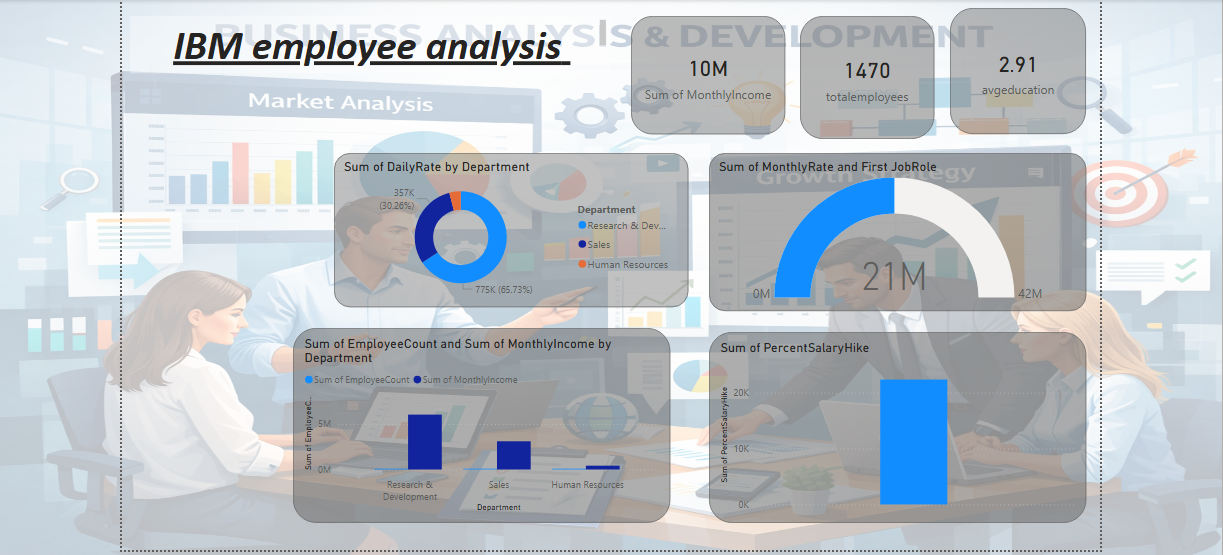

What the dashboard file says about the page in this screenshot:
{"tool":"powerbi","page":{"name":"Page 1","canvas":[1280,720],"ordinal":0},"visuals":[{"type":"card","fields":{"Values":["IBM_DataSet.totalemployees"]},"box":[887.8,20.6,175.6,160.5],"z":0},{"type":"card","fields":{"Values":["IBM_DataSet.avgeducation"]},"box":[1084.1,11,178.4,164.7],"z":1000},{"type":"card","fields":{"Values":["Sum(IBM_DataSet.MonthlyIncome)"]},"box":[666.9,20.6,201.7,155.1],"z":2000},{"type":"gauge","fields":{"Y":["Sum(IBM_DataSet.MonthlyRate)"]},"box":[768.4,200.3,494,207.2],"z":3000},{"type":"lineStackedColumnComboChart","fields":{"Y":["Sum(IBM_DataSet.PercentSalaryHike)"]},"box":[768.4,435,494,249.7],"z":4000},{"type":"clusteredColumnChart","fields":{"Y":["Sum(IBM_DataSet.EmployeeCount)","Sum(IBM_DataSet.MonthlyIncome)"],"Category":["IBM_DataSet.Department"]},"box":[223.7,429.5,494,255.2],"z":5000},{"type":"donutChart","fields":{"Y":["Sum(IBM_DataSet.DailyRate)"],"Category":["IBM_DataSet.Department"]},"box":[277.2,200.3,463.8,201.7],"z":6000},{"type":"textbox","box":[11,20.6,628.5,75.5],"z":7000}]}

Visuals, with their boxes in screenshot pixels (x1, y1, x2, y2):
card - IBM_DataSet.totalemployees: bbox=[801, 0, 939, 127]
card - IBM_DataSet.avgeducation: bbox=[955, 0, 1095, 122]
card - Sum(IBM_DataSet.MonthlyIncome): bbox=[627, 0, 785, 122]
gauge - Sum(IBM_DataSet.MonthlyRate): bbox=[707, 142, 1095, 305]
lineStackedColumnComboChart - Sum(IBM_DataSet.PercentSalaryHike): bbox=[707, 326, 1095, 523]
clusteredColumnChart - Sum(IBM_DataSet.EmployeeCount) x Sum(IBM_DataSet.MonthlyIncome): bbox=[278, 322, 667, 523]
donutChart - Sum(IBM_DataSet.DailyRate) x IBM_DataSet.Department: bbox=[320, 142, 685, 300]
textbox: bbox=[111, 0, 605, 60]
